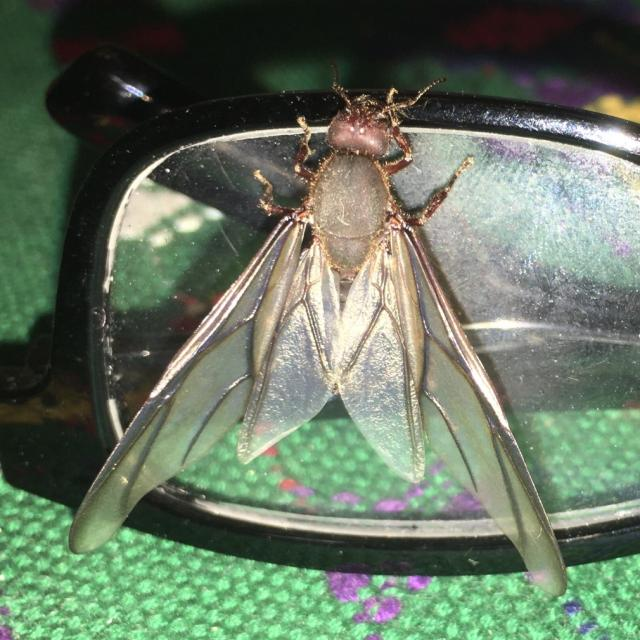Alive-Female-Alate: (69, 61, 568, 596)
